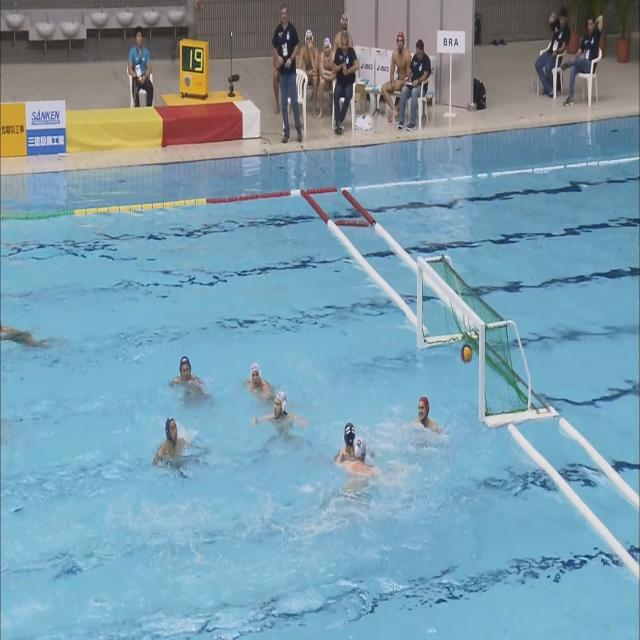ball: (461, 344, 472, 362)
